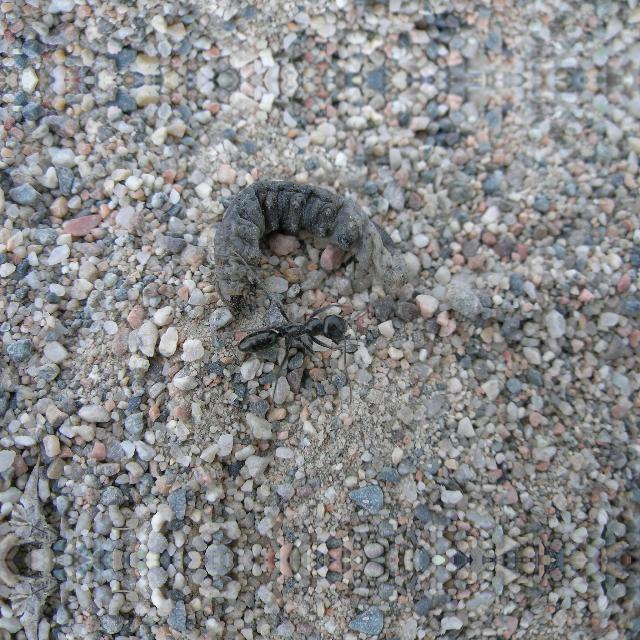Cataglyphis: (220, 289, 366, 369)
